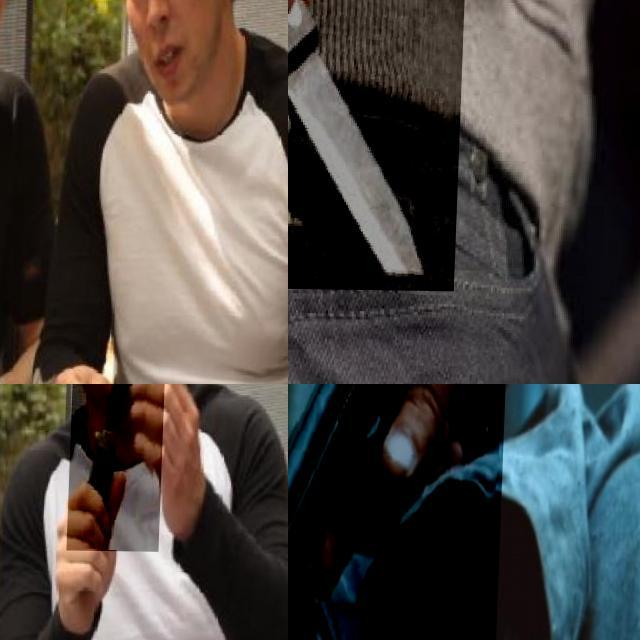-: (288, 0, 469, 289), (69, 384, 170, 550), (0, 129, 28, 336)
gun-knife-thesis - v11 Yolov5 augmented: (288, 384, 510, 640)
